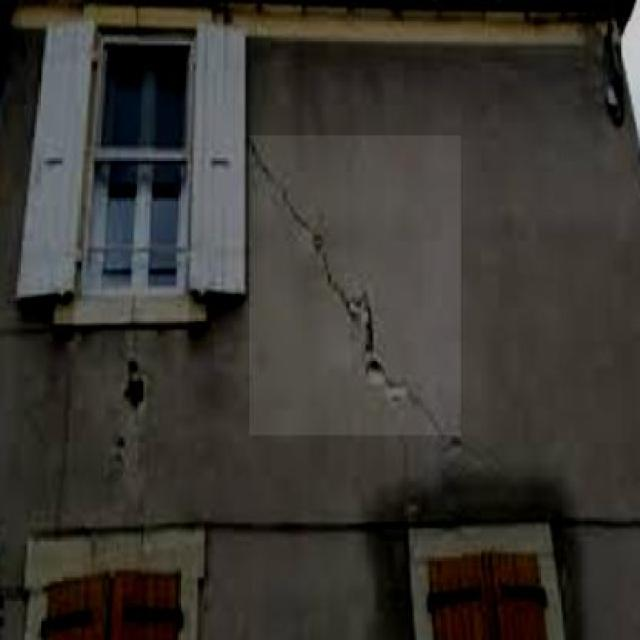Crack: (250, 138, 460, 442), (118, 360, 154, 418), (127, 296, 145, 352)
